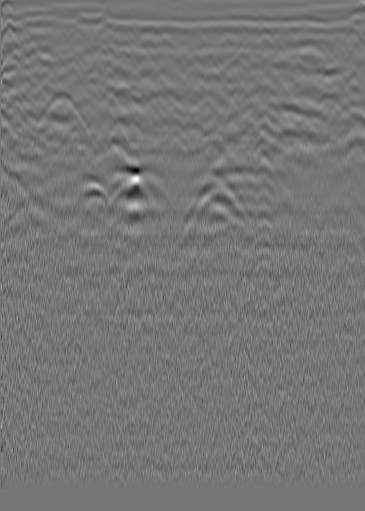가스: (111, 168, 151, 207)
상수: (320, 33, 340, 53)
오수: (38, 27, 58, 47)
우수: (172, 36, 192, 56)
